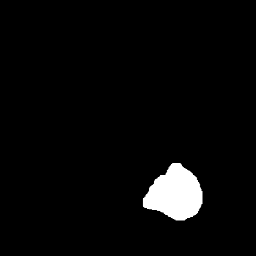mass: (73, 100, 165, 180)
